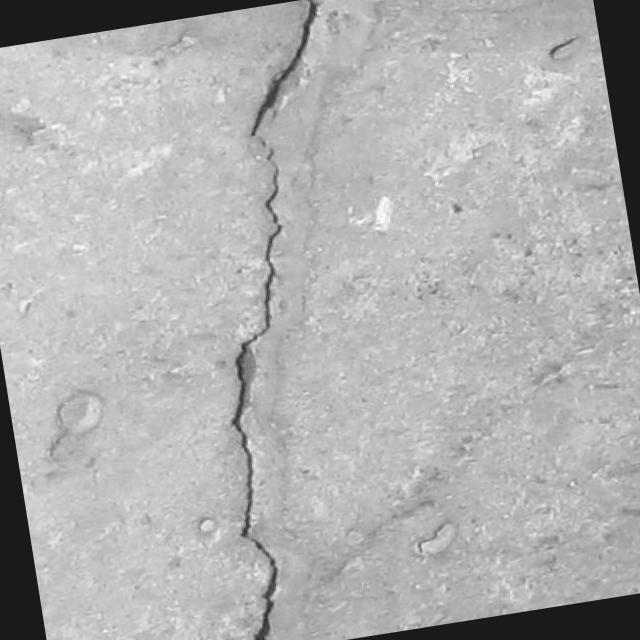crack: (144, 0, 435, 640)
